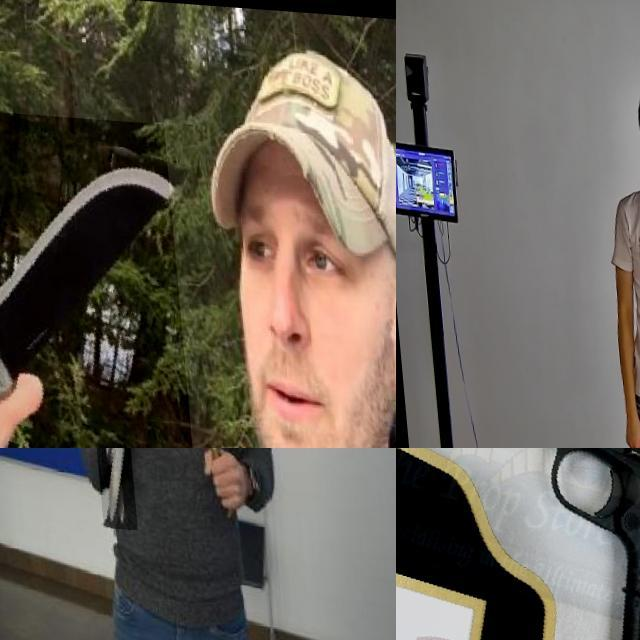-: (0, 103, 187, 448), (87, 448, 128, 526), (184, 448, 229, 514)
gun-knife-thesis - v11 Yolov5 augmented: (396, 448, 640, 640)
